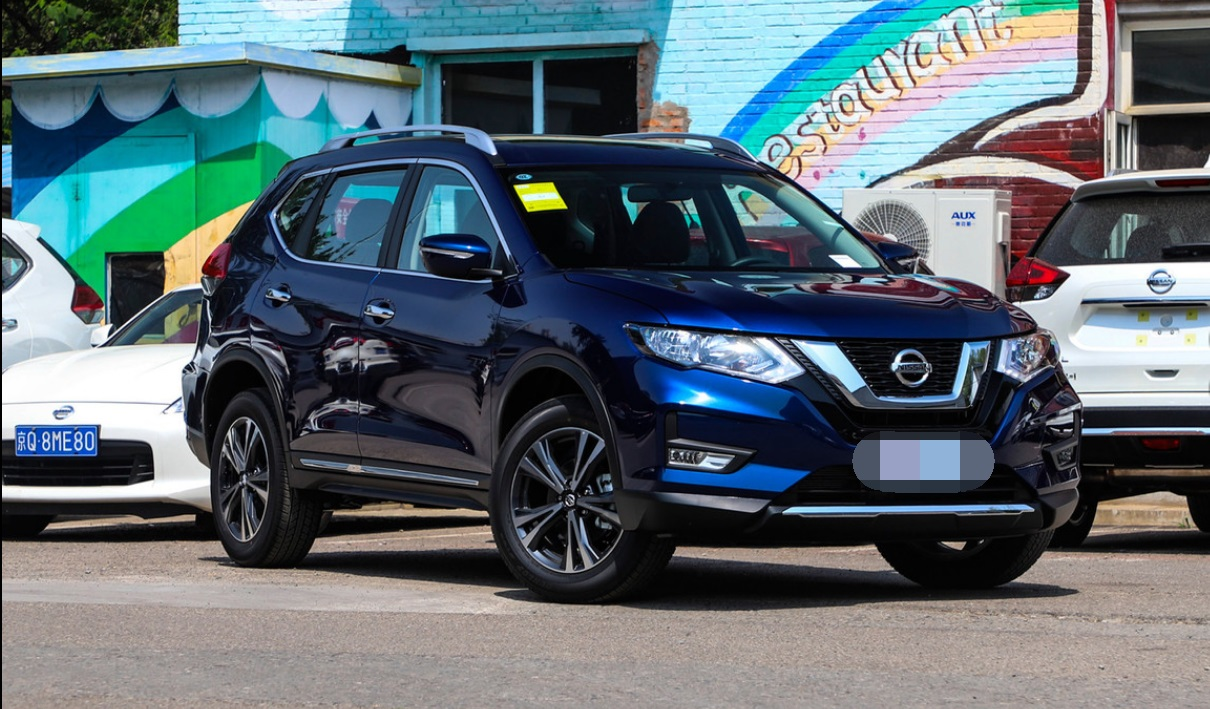SUV: (179, 119, 1093, 618)
